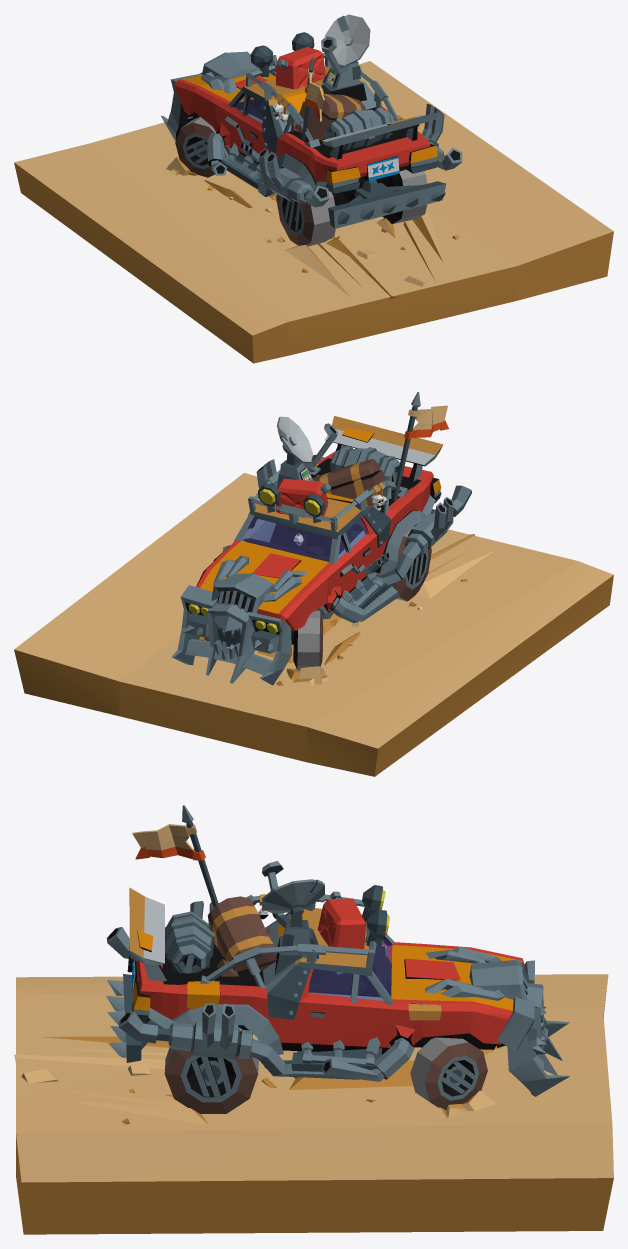
3 renders of one model, top to bottom at view 1: azimuth 30°, elevation 25°; view 2: azimuth 150°, elevation 25°; view 3: azimuth 270°, elevation 25°, orthographic. The views are drawn at different scales.
Parts seen in each view (by area): view 1: node_MeshObject1817894912-PolyPaper12, node_MeshObject-1051248640-PolyPaper23, node_MeshObject2099560448-PolyPaper23; view 2: node_MeshObject1817894912-PolyPaper12, node_MeshObject-1051248640-PolyPaper23, node_MeshObject2099560448-PolyPaper23, node_MeshObject-1623327744-PolyGlass24; view 3: node_MeshObject1817894912-PolyPaper12, node_MeshObject-1051248640-PolyPaper23, node_MeshObject2099560448-PolyPaper23, node_MeshObject-1623327744-PolyGlass24.
Part boxes in pixels (x1,y1,x2,y2): node_MeshObject1817894912-PolyPaper12: [14, 14, 613, 335]; node_MeshObject-1051248640-PolyPaper23: [14, 15, 613, 363]; node_MeshObject2099560448-PolyPaper23: [161, 51, 438, 299]; node_MeshObject1817894912-PolyPaper12: [14, 416, 613, 748]; node_MeshObject-1051248640-PolyPaper23: [14, 392, 613, 776]; node_MeshObject2099560448-PolyPaper23: [171, 466, 494, 685]; node_MeshObject-1623327744-PolyGlass24: [241, 518, 367, 561]; node_MeshObject1817894912-PolyPaper12: [14, 848, 613, 1182]; node_MeshObject-1051248640-PolyPaper23: [16, 805, 613, 1234]; node_MeshObject2099560448-PolyPaper23: [127, 894, 569, 1113]; node_MeshObject-1623327744-PolyGlass24: [309, 938, 391, 1000].
Size of the model in its own units: 4.52 by 2.72 by 5.11.
